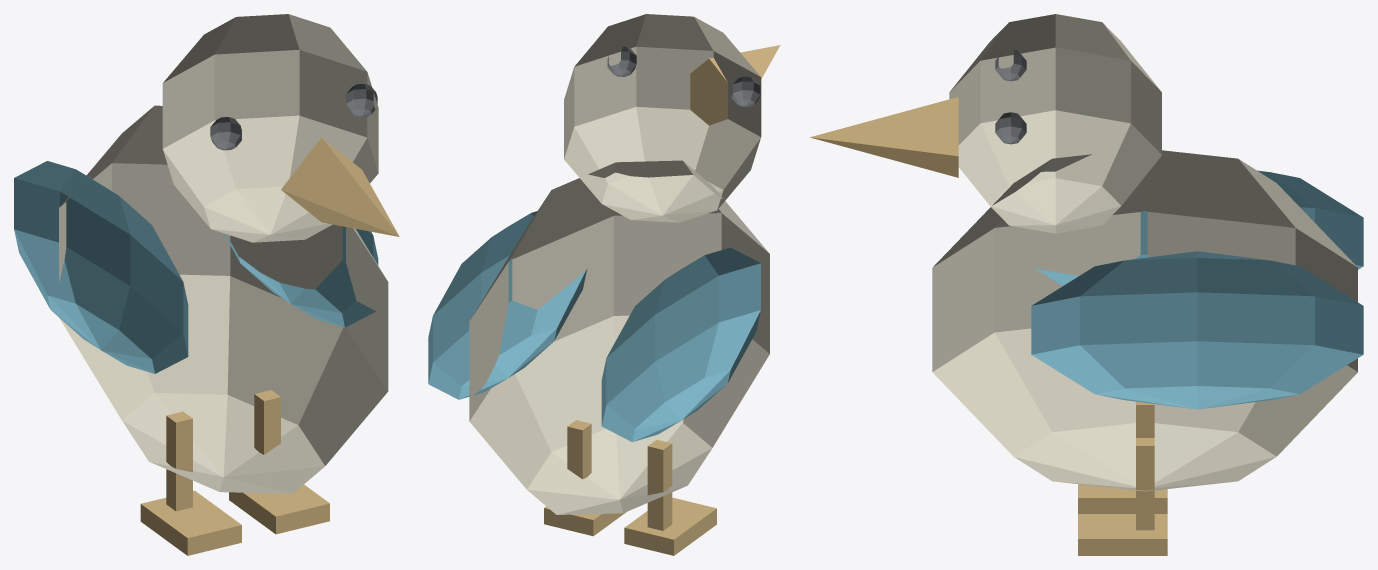
The model's file is seagull.glb.
3 views of the same model, side by side, from view 1: azimuth 30°, elevation 25°; view 2: azimuth 150°, elevation 25°; view 3: azimuth 270°, elevation 25° (orthographic). The views are drawn at different scales.
Parts seen in each view (by area): view 1: tidal-observatory-shore-gull; view 2: tidal-observatory-shore-gull; view 3: tidal-observatory-shore-gull.
Part boxes in pixels (box(x1,y1,x2,y2)): tidal-observatory-shore-gull: box(14, 14, 399, 555); tidal-observatory-shore-gull: box(428, 14, 780, 555); tidal-observatory-shore-gull: box(810, 14, 1363, 555).
Bounding box in the file's own units: 0.3656 × 0.74 × 0.7425.
